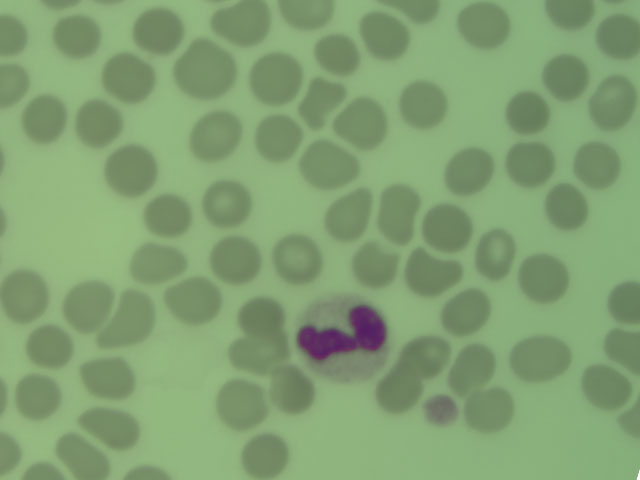RBC: (291, 301, 383, 384)
WBC: (103, 146, 158, 198), (171, 45, 226, 97), (248, 51, 303, 103), (169, 277, 224, 329), (202, 176, 257, 228), (190, 110, 245, 162), (589, 80, 637, 134), (521, 252, 573, 301), (110, 290, 154, 344), (62, 278, 108, 329), (377, 186, 418, 243), (74, 402, 140, 437), (251, 115, 300, 162), (236, 294, 286, 340), (52, 12, 103, 57), (332, 99, 383, 144), (130, 7, 181, 52), (457, 5, 508, 50), (217, 230, 268, 275), (276, 234, 327, 279), (349, 243, 400, 288), (423, 201, 474, 246), (303, 146, 354, 191), (320, 192, 371, 237), (445, 146, 496, 191), (399, 82, 450, 127), (218, 1, 269, 45), (540, 55, 589, 100), (543, 183, 588, 232), (1, 266, 43, 318), (103, 50, 151, 95), (407, 253, 458, 295), (589, 15, 640, 57), (583, 365, 634, 407), (464, 387, 515, 429), (514, 337, 565, 379), (447, 344, 498, 386), (397, 335, 448, 377), (240, 431, 291, 473), (215, 381, 266, 423), (263, 370, 314, 412), (237, 334, 288, 376), (224, 323, 275, 365), (504, 137, 549, 183), (83, 353, 137, 391), (24, 95, 65, 145), (375, 369, 416, 418), (76, 98, 119, 144), (146, 194, 194, 235), (135, 237, 181, 279), (449, 286, 487, 336), (16, 372, 59, 416), (503, 88, 543, 134), (573, 139, 612, 185), (365, 15, 407, 56), (28, 320, 70, 360), (275, 1, 338, 27), (60, 435, 97, 479), (317, 33, 358, 71), (604, 285, 640, 328), (607, 323, 640, 367), (1, 14, 32, 56), (550, 1, 592, 32), (476, 230, 502, 273), (1, 426, 21, 480), (620, 398, 640, 446)
